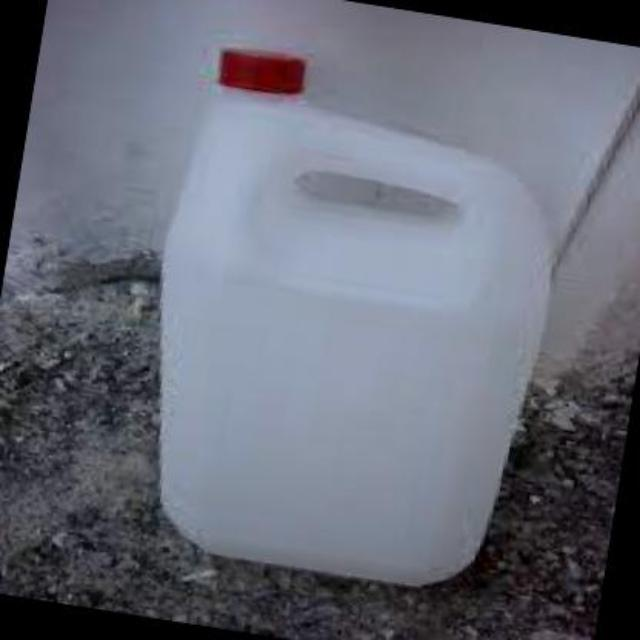chemical_plastic_gallon: (104, 30, 620, 614)
